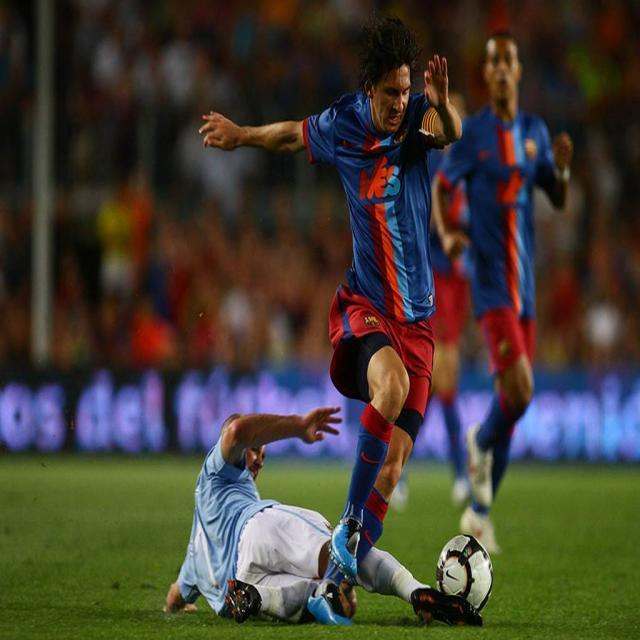football: (431, 517, 504, 621)
